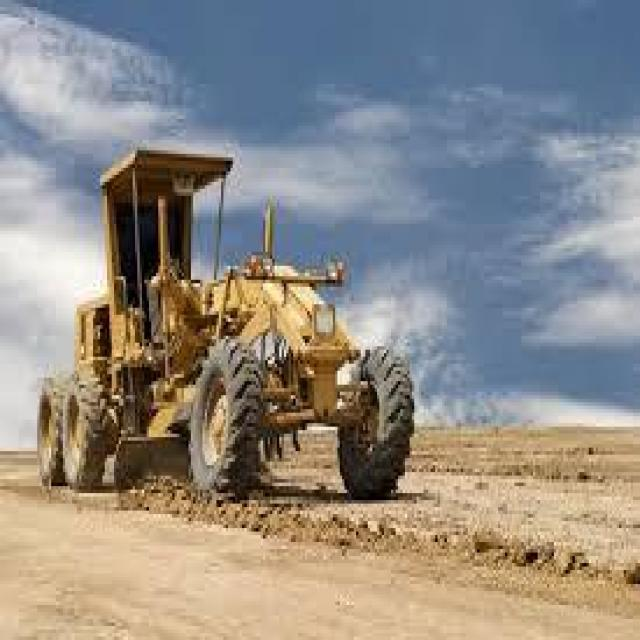Grader: (26, 143, 430, 552)
